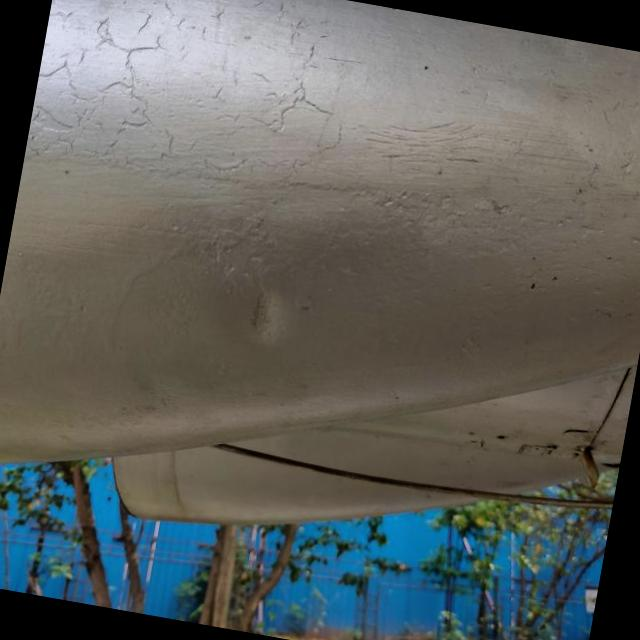dent: (196, 248, 322, 374)
